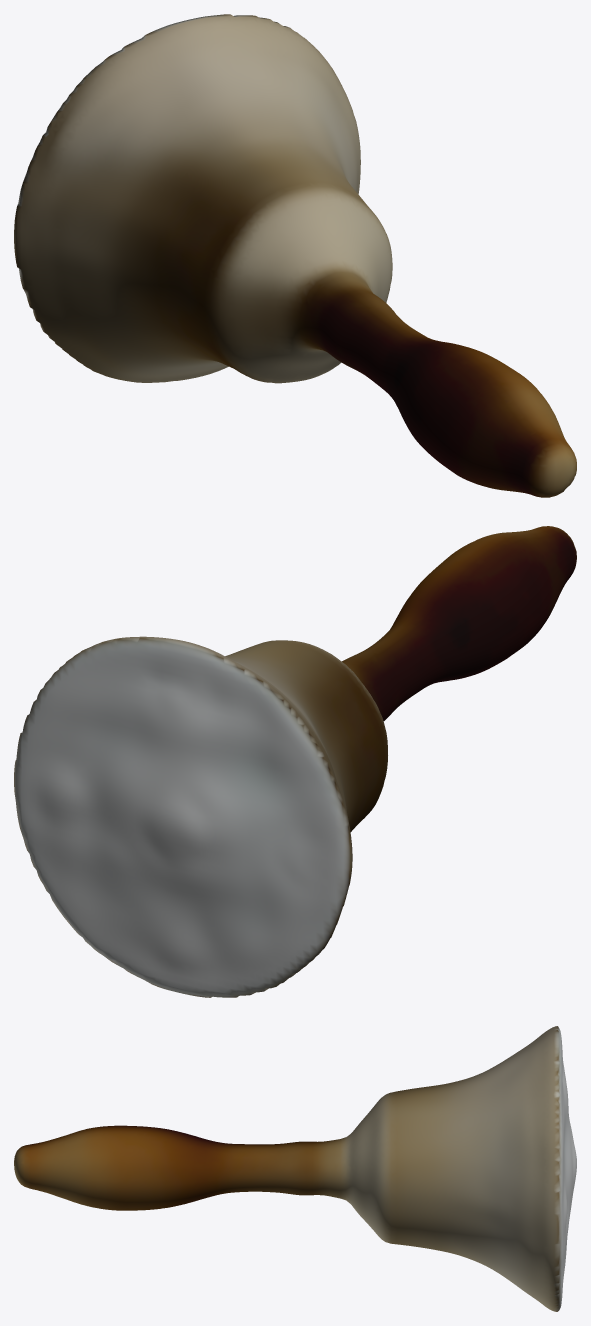
File: bell.glb
3 views of the same model, one above another, from view 1: azimuth 30°, elevation 25°; view 2: azimuth 150°, elevation 25°; view 3: azimuth 270°, elevation 25° (orthographic). The views are drawn at different scales.
Bounding box in the file's own units: 0.5049 × 0.5018 × 0.9995.
